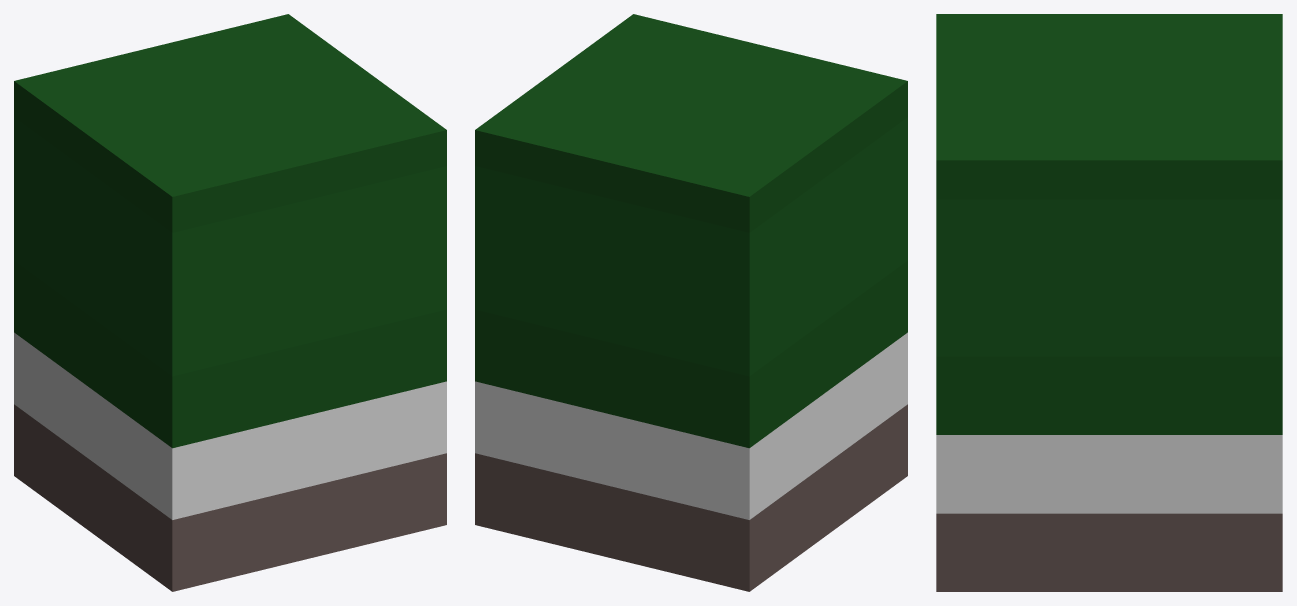
File: NPC2_rightleg_1.obj
3 views of the same model, side by side, from view 1: azimuth 30°, elevation 25°; view 2: azimuth 150°, elevation 25°; view 3: azimuth 270°, elevation 25° (orthographic). The views are drawn at different scales.
Size of the model in its own units: 1.6 by 2.2 by 1.6.
1 material, 1 textured.
